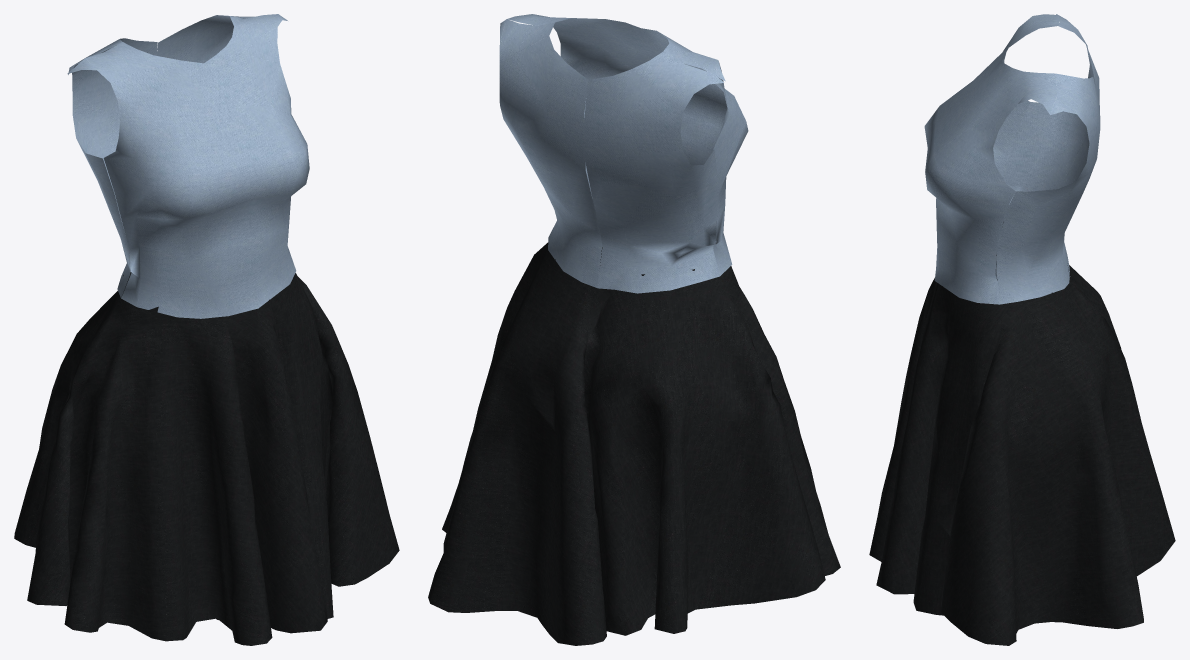
The model's file is woman_dress_lo.glb.
3 renders of one model, left to right at view 1: azimuth 30°, elevation 25°; view 2: azimuth 150°, elevation 25°; view 3: azimuth 270°, elevation 25°, orthographic. The views are drawn at different scales.
Visible parts, largest first — view 1: dress_Stretch_Denim_FCL1PSD003_FRONT_4181_0; view 2: dress_Stretch_Denim_FCL1PSD003_FRONT_4181_0; view 3: dress_Stretch_Denim_FCL1PSD003_FRONT_4181_0.
Boxes of the visible parts, x1=… form: dress_Stretch_Denim_FCL1PSD003_FRONT_4181_0: x1=14, y1=14, x2=399, y2=645; dress_Stretch_Denim_FCL1PSD003_FRONT_4181_0: x1=428, y1=14, x2=840, y2=645; dress_Stretch_Denim_FCL1PSD003_FRONT_4181_0: x1=869, y1=14, x2=1175, y2=645.
Size of the model in its own units: 0.6759 by 1 by 0.5253.
Materials: 2 (2 with a texture image).
